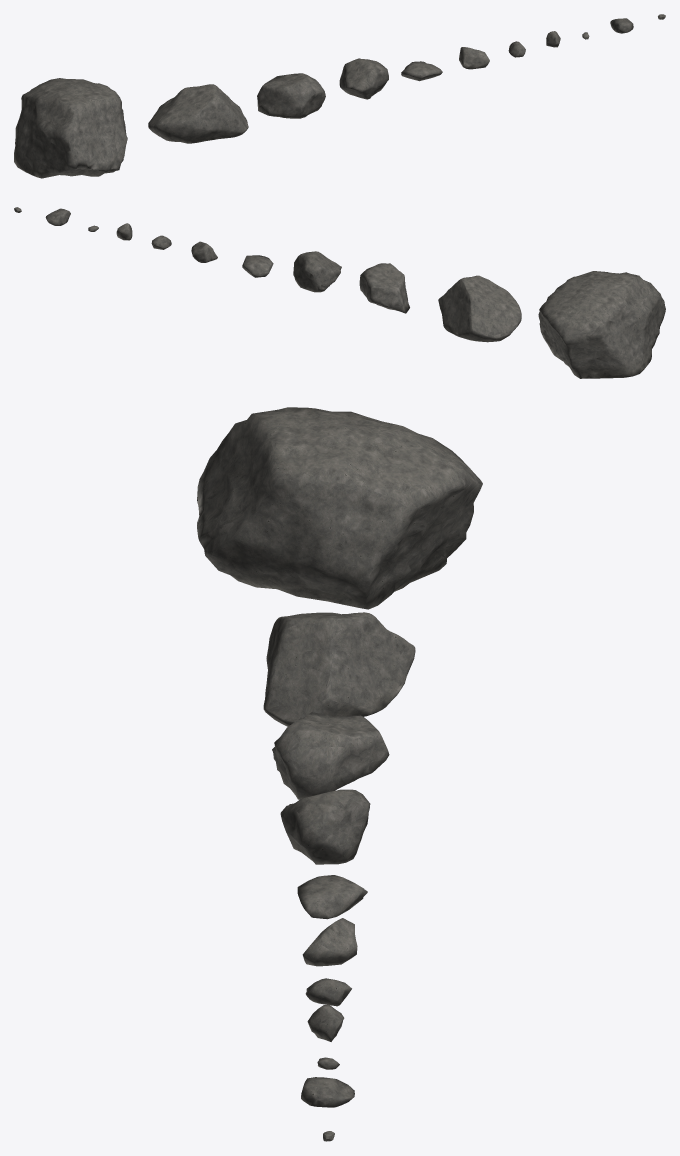
Rendered from moon-rocks.glb.
3 renders of one model, top to bottom at view 1: azimuth 30°, elevation 25°; view 2: azimuth 150°, elevation 25°; view 3: azimuth 270°, elevation 25°, orthographic. The views are drawn at different scales.
Parts seen in each view (by area): view 1: rock-01, rock-02, rock-03, rock-04, rock-05, rock-06, rock-10; view 2: rock-01, rock-02, rock-03, rock-04, rock-05, rock-06, rock-10; view 3: rock-01, rock-02, rock-03, rock-04, rock-05, rock-06, rock-10.
Part boxes in pixels (box(x1,y1,x2,y2)): rock-01: box(14, 78, 127, 178); rock-02: box(148, 84, 248, 143); rock-03: box(257, 73, 325, 118); rock-04: box(339, 58, 388, 99); rock-05: box(401, 61, 442, 81); rock-06: box(459, 47, 489, 69); rock-10: box(610, 18, 633, 33); rock-01: box(538, 271, 665, 378); rock-02: box(438, 275, 521, 342); rock-03: box(359, 263, 409, 313); rock-04: box(293, 251, 341, 292); rock-05: box(242, 255, 273, 277); rock-06: box(191, 241, 217, 262); rock-10: box(45, 208, 70, 225); rock-01: box(197, 407, 482, 609); rock-02: box(263, 612, 415, 726); rock-03: box(272, 712, 389, 799); rock-04: box(280, 789, 370, 864); rock-05: box(297, 875, 367, 919); rock-06: box(302, 918, 357, 966); rock-10: box(301, 1077, 354, 1107).
Size of what is drawn, in the model's own units: 8.06 by 0.9199 by 1.57.
Materials: 1 (1 with a texture image).
